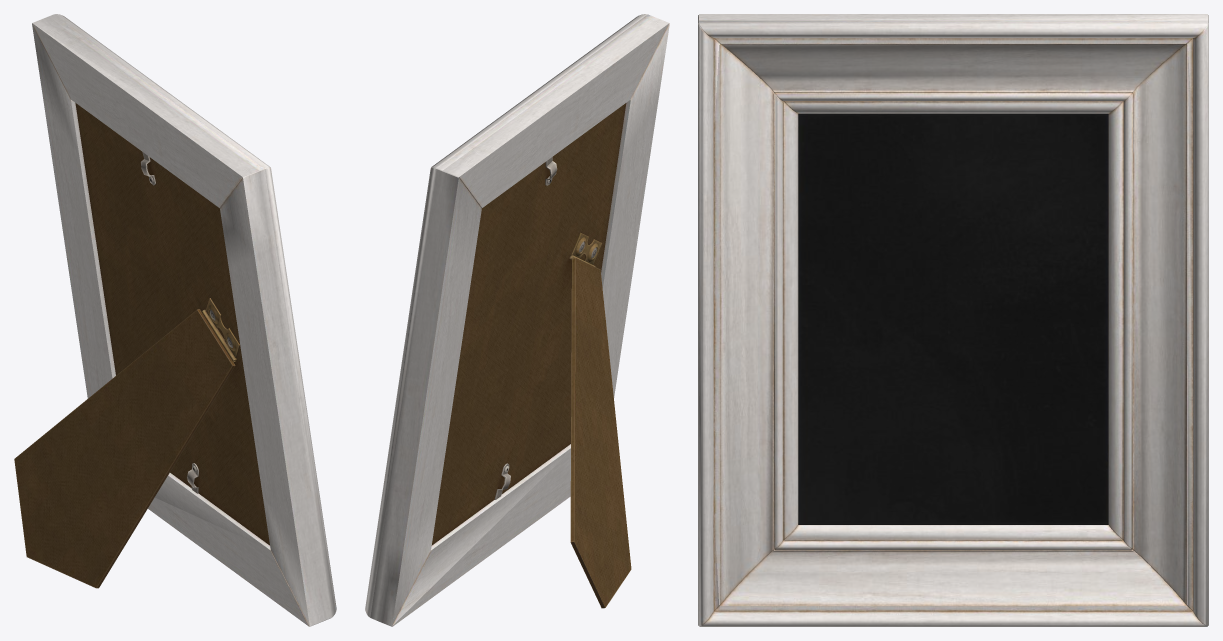
3 renders of one model, left to right at view 1: azimuth 30°, elevation 25°; view 2: azimuth 150°, elevation 25°; view 3: azimuth 270°, elevation 25°, orthographic. The views are drawn at different scales.
Visible parts, largest first — view 1: standing_picture_frame_02; view 2: standing_picture_frame_02; view 3: standing_picture_frame_02.
Part boxes in pixels (x1,y1,x2,y2): standing_picture_frame_02: (14,14,336,626); standing_picture_frame_02: (365,14,669,626); standing_picture_frame_02: (698,14,1208,626).
Size of the model in its own units: 0.1023 by 0.2664 by 0.2169.
3 materials, 3 textured.
